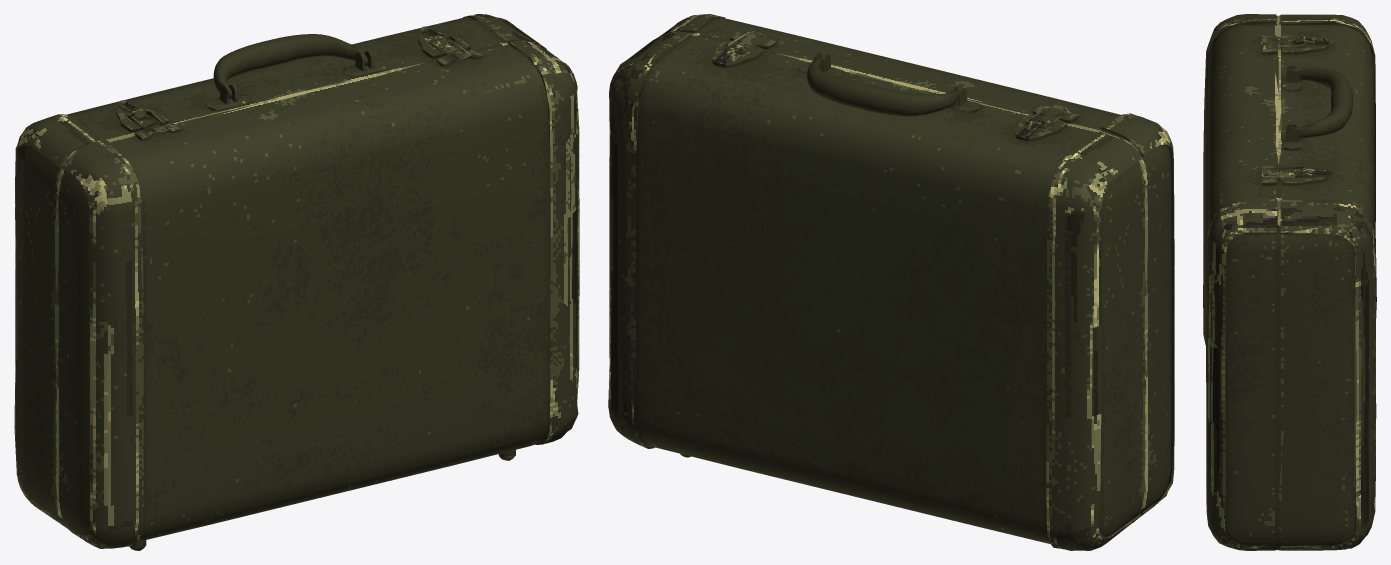
File: vintage_suitcase.glb
3 renders of one model, left to right at view 1: azimuth 30°, elevation 25°; view 2: azimuth 150°, elevation 25°; view 3: azimuth 270°, elevation 25°, orthographic. The views are drawn at different scales.
Parts seen in each view (by area): view 1: body; view 2: body; view 3: body.
Boxes of the visible parts, box(x1,y1,x2,y2) form: body: box(14, 14, 579, 550); body: box(608, 14, 1174, 550); body: box(1203, 14, 1376, 550).
Bounding box in the file's own units: 0.6936 × 0.5679 × 0.2379.
Materials: 1 (1 with a texture image).
